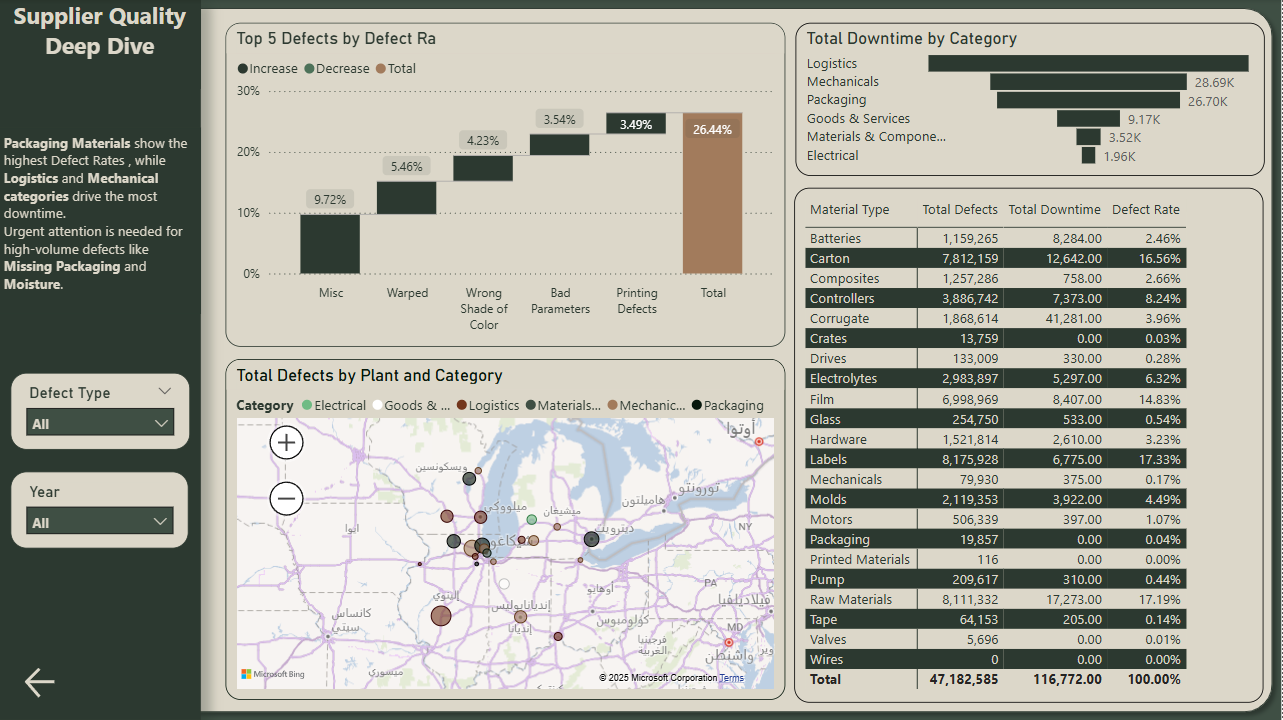

This screenshot's page, from the dashboard's own definition file:
{"tool":"powerbi","page":{"name":"Supplier Quality Analytics","canvas":[1280,720],"ordinal":1},"visuals":[{"type":"shape","box":[0,0,1280.3,720.4],"z":0},{"type":"pivotTable","fields":{"Values":["_measures.Total Defects","_measures.Total Downtime","_measures.Defect Rate"],"Rows":["dMaterial Type.Material Type"]},"box":[794.5,188,467.9,513.2],"z":1000},{"type":"funnel","fields":{"Category":["dCategory.Category"],"Y":["_measures.Total Downtime"]},"box":[794.9,23.6,467.7,153],"z":2000},{"type":"map","fields":{"Series":["dCategory.Category"],"Size":["_measures.Total Defects"],"Category":["dPlant.Plant"]},"box":[226.4,359.5,558.5,340.3],"z":3000},{"type":"shape","box":[0,0,202.8,720.3],"z":4000},{"type":"textbox","title":"Supplier Quality Deep Dive","box":[0,0,202.8,89.6],"z":5000},{"type":"slicer","fields":{"Values":["dDefect Type.Defect Type"]},"box":[12.4,373.2,179.1,77.1],"z":6000},{"type":"slicer","fields":{"Values":["dCalender.Year"]},"box":[12.4,471.5,177.9,77.1],"z":7000},{"type":"actionButton","box":[22.4,661.8,99.5,39.8],"z":8000},{"type":"waterfallChart","title":"Top 5 Defects by Defect Ra","fields":{"Category":["dDefect.Defect"],"Y":["_measures.Defect Rate"]},"box":[226.4,23.6,558.5,323.4],"z":9000},{"type":"textbox","box":[0,128.1,202.8,185.3],"z":10000}]}

Visuals, with their boxes in screenshot pixels (x1, y1, x2, y2), scaled from the page's 1280x720 canvas onto the 1283x720 screenshot:
shape: {"left": 0, "top": 0, "right": 1282, "bottom": 719}
pivotTable - _measures.Total Defects x _measures.Total Downtime: {"left": 796, "top": 188, "right": 1265, "bottom": 701}
funnel - dCategory.Category x _measures.Total Downtime: {"left": 797, "top": 24, "right": 1266, "bottom": 177}
map - dCategory.Category x _measures.Total Defects: {"left": 227, "top": 360, "right": 787, "bottom": 700}
shape: {"left": 0, "top": 0, "right": 203, "bottom": 719}
"Supplier Quality Deep Dive" textbox: {"left": 0, "top": 0, "right": 203, "bottom": 90}
slicer - dDefect Type.Defect Type: {"left": 12, "top": 373, "right": 192, "bottom": 450}
slicer - dCalender.Year: {"left": 12, "top": 472, "right": 191, "bottom": 549}
actionButton: {"left": 22, "top": 662, "right": 122, "bottom": 702}
"Top 5 Defects by Defect Ra" waterfallChart: {"left": 227, "top": 24, "right": 787, "bottom": 347}
textbox: {"left": 0, "top": 128, "right": 203, "bottom": 313}
